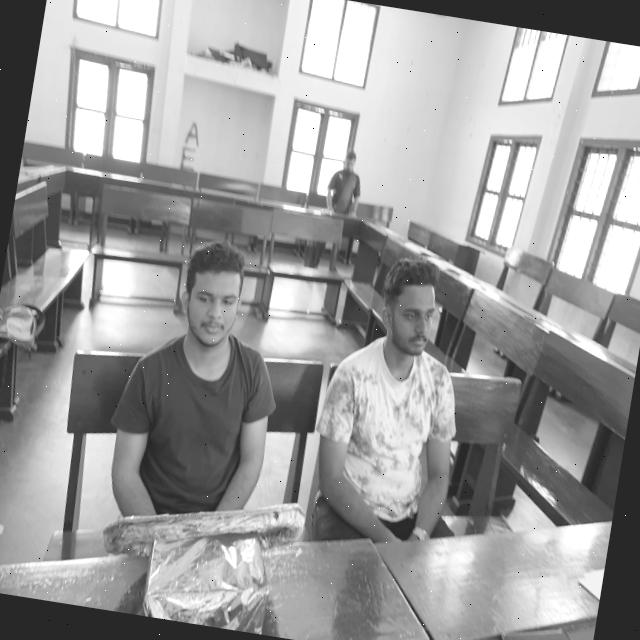no-seatbelt: (100, 324, 286, 552), (302, 335, 467, 568)
